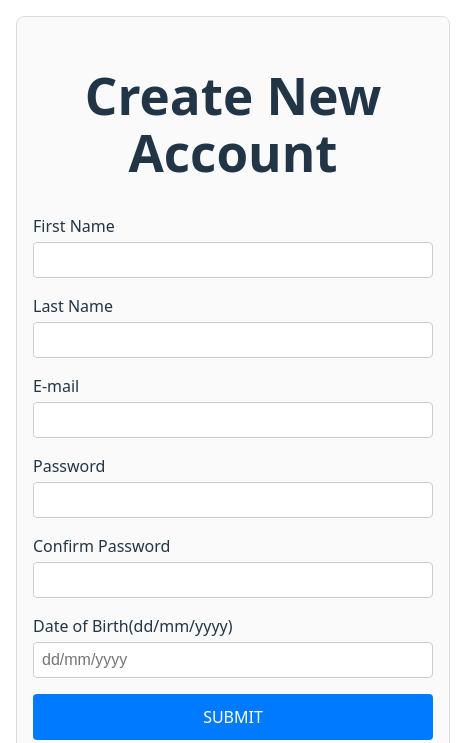
Scenario: Section 1: Basic Form Functionality › shows error for mismatched passwords and does not submit
Type "Alice" into the field labelled "First Name" at (233, 260), box [33,242,433,278]
Type "Smith" into the field labelled "Last Name" at (233, 340), box [33,322,433,358]
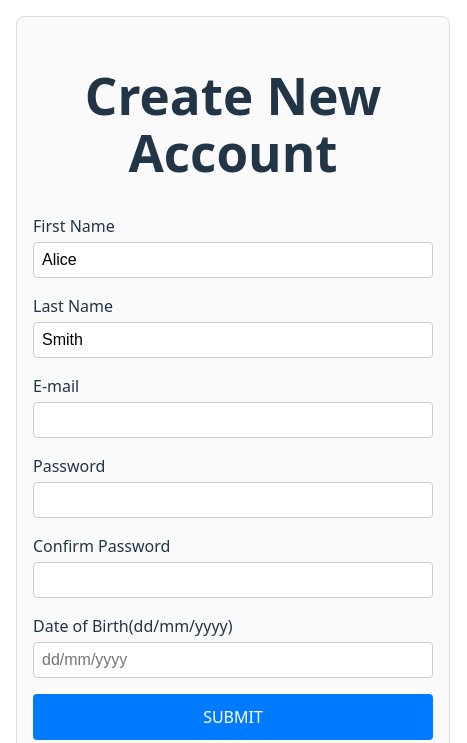
Type "alice@example.com" into the field labelled "E-mail" at (233, 420), box [33,402,433,438]
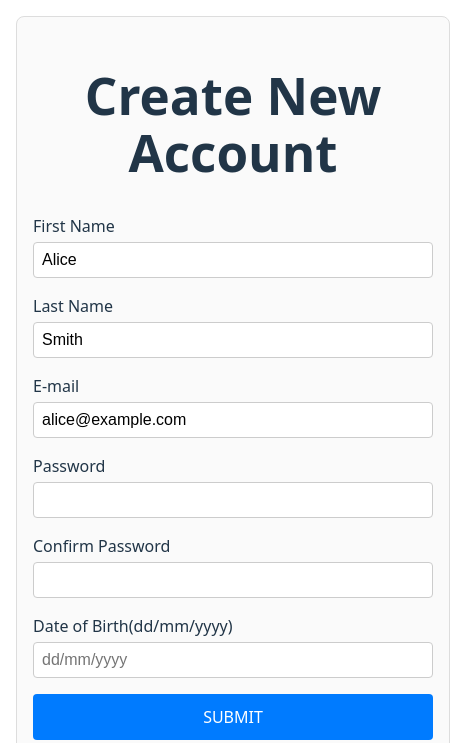
Type "pass1" into the password field labelled "Password" at (233, 500), box [33,482,433,518]
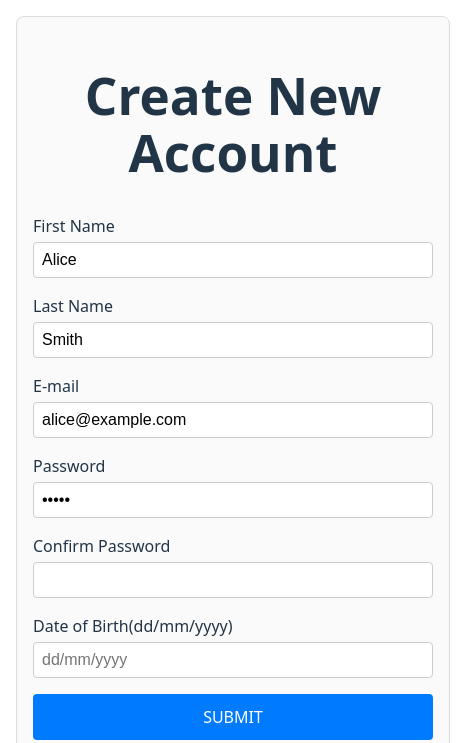
Type "pass2" into the password field labelled "Confirm Password" at (233, 580), box [33,562,433,598]
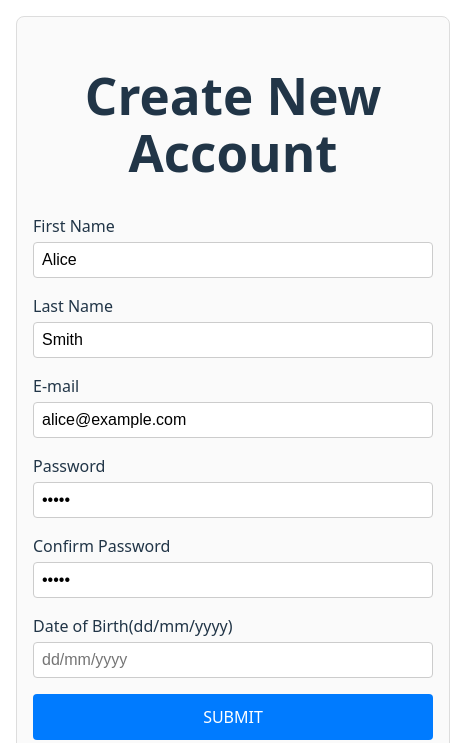
Type "31/12/1999" into the field labelled "Date of Birth(dd/mm/yyyy)" at (233, 660), box [33,642,433,678]
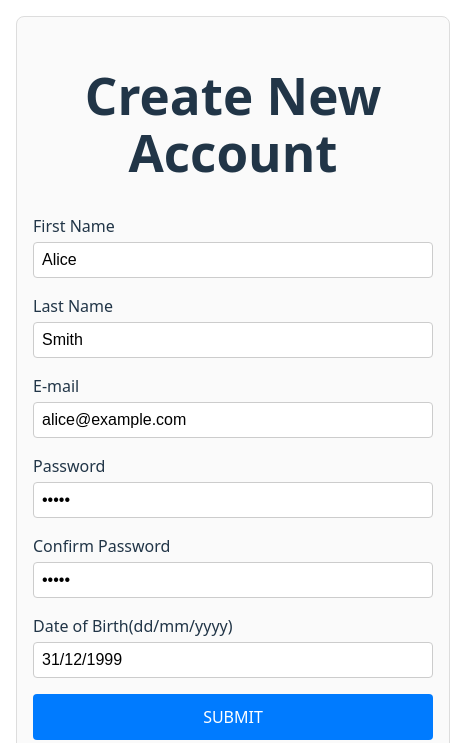
Click the button "SUBMIT" at (233, 717), box [33,694,433,740]
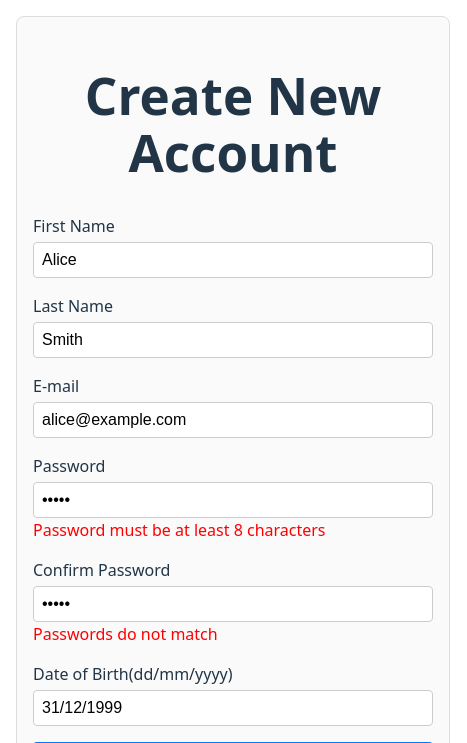
Check: the text "Passwords do not match" is shown, box [33,623,218,645]
